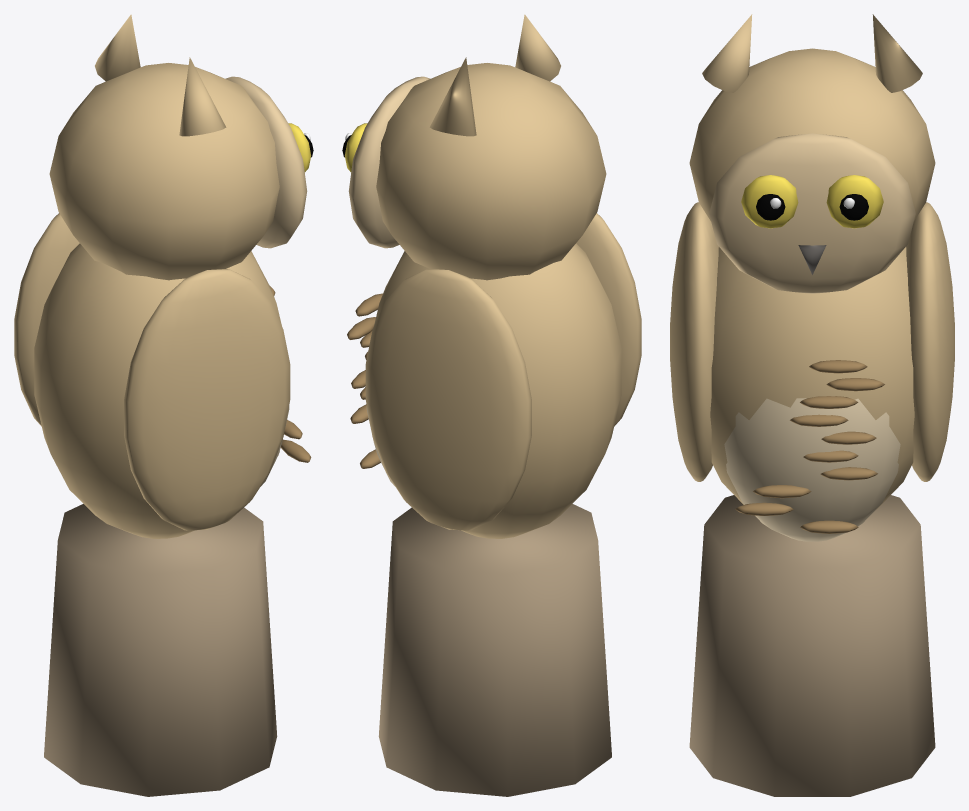
Rendered from tawny-fish-owl.glb.
The picture shows the model from 3 angles, left to right: view 1: azimuth 30°, elevation 25°; view 2: azimuth 150°, elevation 25°; view 3: azimuth 270°, elevation 25°; orthographic projection. The views are drawn at different scales.
Visible parts, largest first — view 1: e.008, cone, e.020, e.021; view 2: e.008, cone, e.021, e.020; view 3: e.008, cone, e.020, e.021.
Boxes of the visible parts, <box> form: e.008: <box>34,243,311,796</box>; cone: <box>49,14,313,280</box>; e.020: <box>124,269,290,530</box>; e.021: <box>14,213,79,426</box>; e.008: <box>347,243,621,796</box>; cone: <box>342,14,606,280</box>; e.021: <box>365,269,531,530</box>; e.020: <box>576,213,641,426</box>; e.008: <box>689,247,935,796</box>; cone: <box>689,14,935,293</box>; e.020: <box>670,202,718,481</box>; e.021: <box>906,202,954,481</box>.
Size of the model in its own units: 0.5812 by 1.65 by 0.5788.
